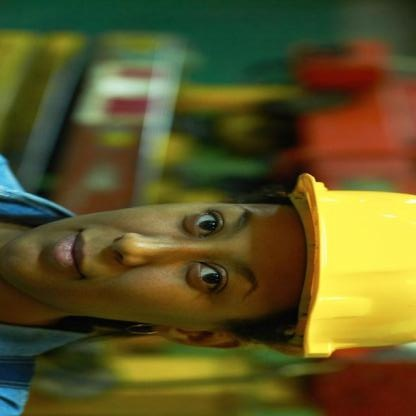yellow: (263, 161, 416, 363)
